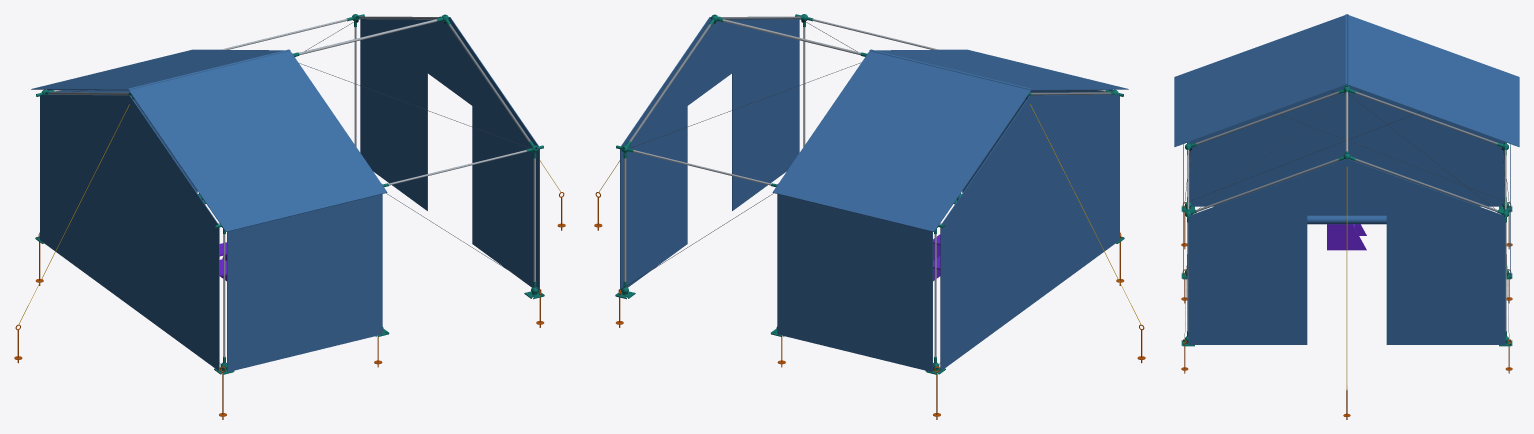
The picture shows the model from 3 angles, left to right: view 1: azimuth 30°, elevation 25°; view 2: azimuth 150°, elevation 25°; view 3: azimuth 270°, elevation 25°; orthographic projection. The views are drawn at different scales.
Parts seen in each view (by area): view 1: Tarpaulin skin, agency stock (rear bay and front gable with ; view 2: Tarpaulin skin, agency stock (rear bay and front gable with ; view 3: Tarpaulin skin, agency stock (rear bay and front gable with , Folding step, EMT rafter, 1 in, 2.06 m, EMT rafter, 1 in, 2.06 m (('tube', 'rafter', 2000.0, -1)), EMT rafter, 1 in, 2.06 m (('tube', 'rafter', 2000.0, 1)), EMT rafter, 1 in, 2.06 m (('tube', 'rafter', 4000.0, 1)), Guy line (('cable', 'guy', 'front')).
Part boxes in pixels (bbox=[...]): Tarpaulin skin, agency stock (rear bay and front gable with : bbox=[31, 17, 539, 371]; Tarpaulin skin, agency stock (rear bay and front gable with : bbox=[620, 17, 1128, 371]; Tarpaulin skin, agency stock (rear bay and front gable with : bbox=[1174, 14, 1519, 344]; Folding step: bbox=[1327, 224, 1366, 250]; EMT rafter, 1 in, 2.06 m: bbox=[1194, 158, 1338, 212]; EMT rafter, 1 in, 2.06 m (('tube', 'rafter', 2000.0, -1)): bbox=[1196, 91, 1338, 144]; EMT rafter, 1 in, 2.06 m (('tube', 'rafter', 2000.0, 1)): bbox=[1355, 91, 1497, 144]; EMT rafter, 1 in, 2.06 m (('tube', 'rafter', 4000.0, 1)): bbox=[1355, 158, 1497, 211]; Guy line (('cable', 'guy', 'front')): bbox=[1346, 167, 1347, 381].
Size of the model in its own units: 7.09 by 3.25 by 4.35.
